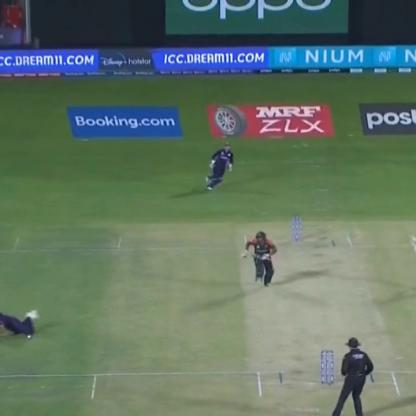pitch: (235, 210, 406, 416)
